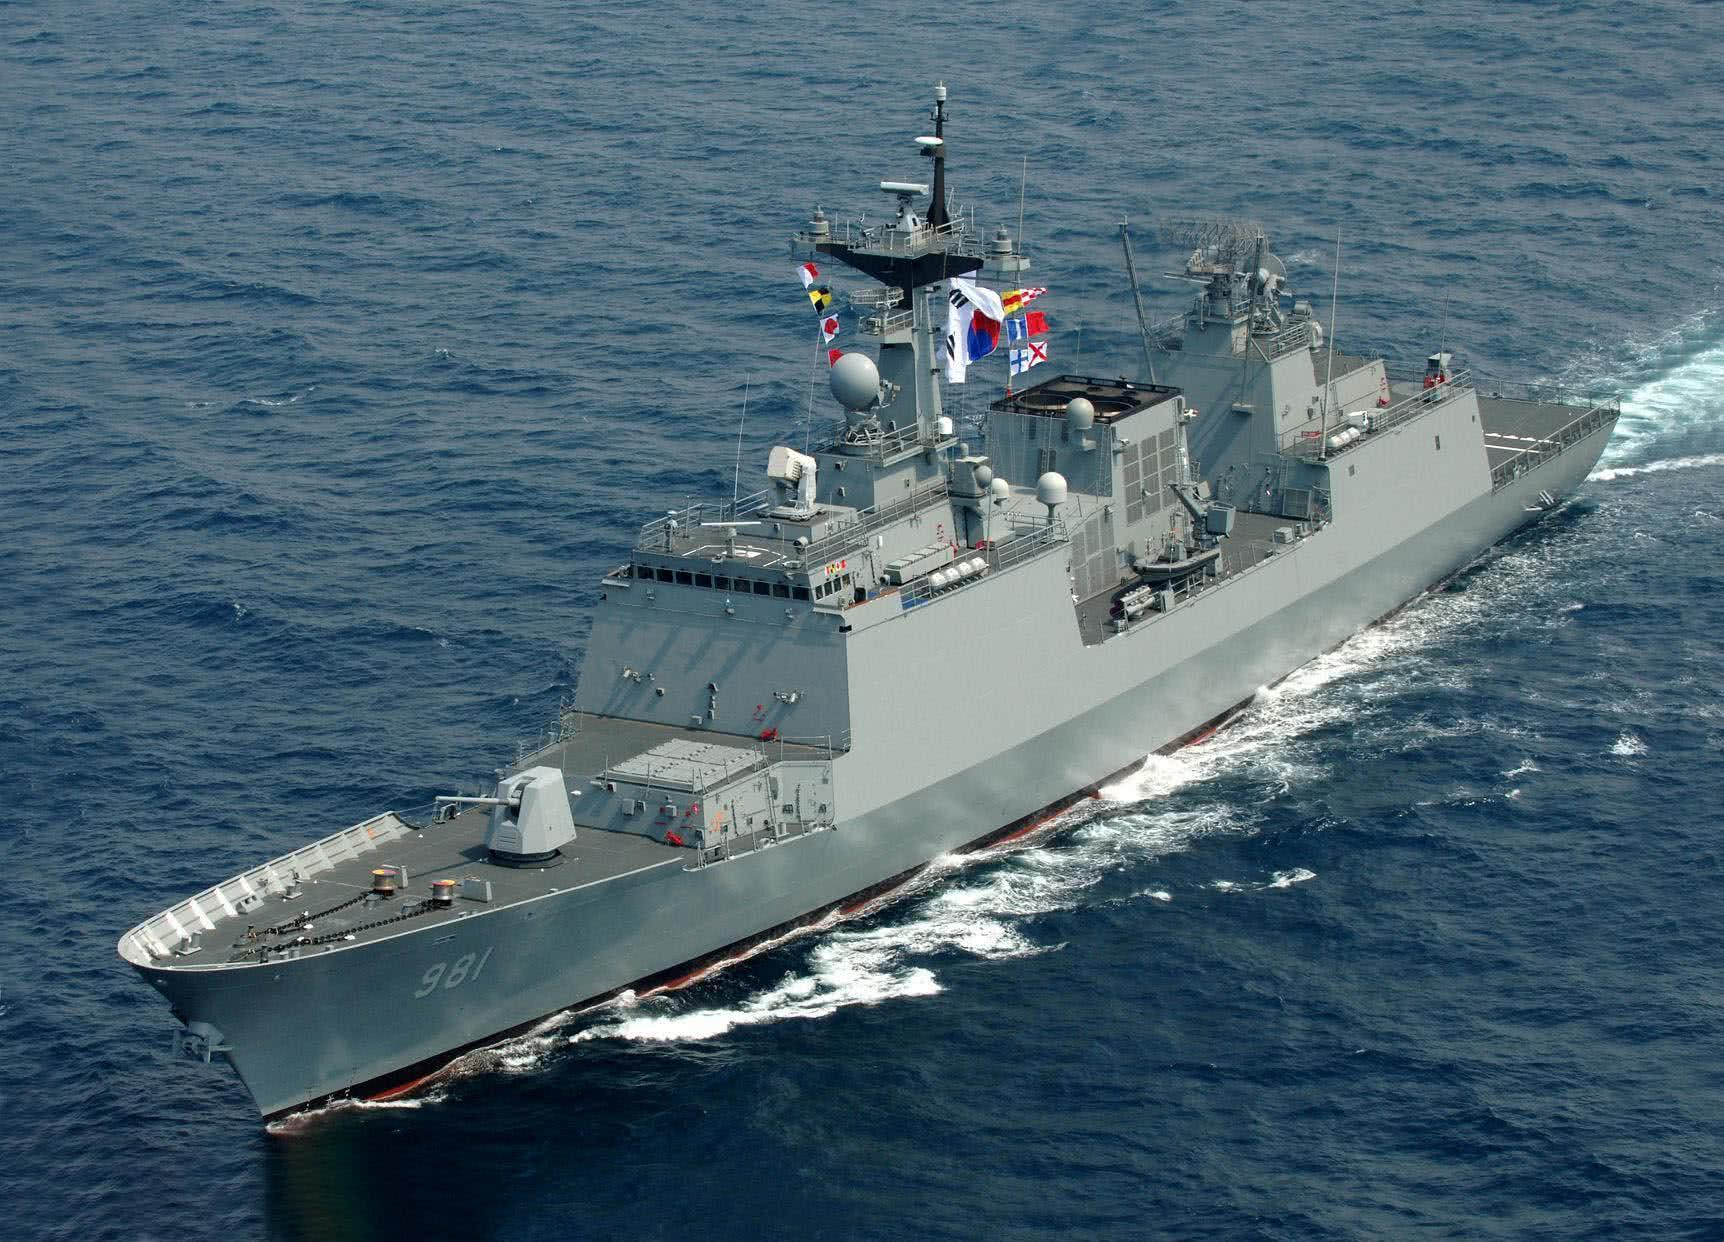warship: (110, 88, 1624, 1130)
